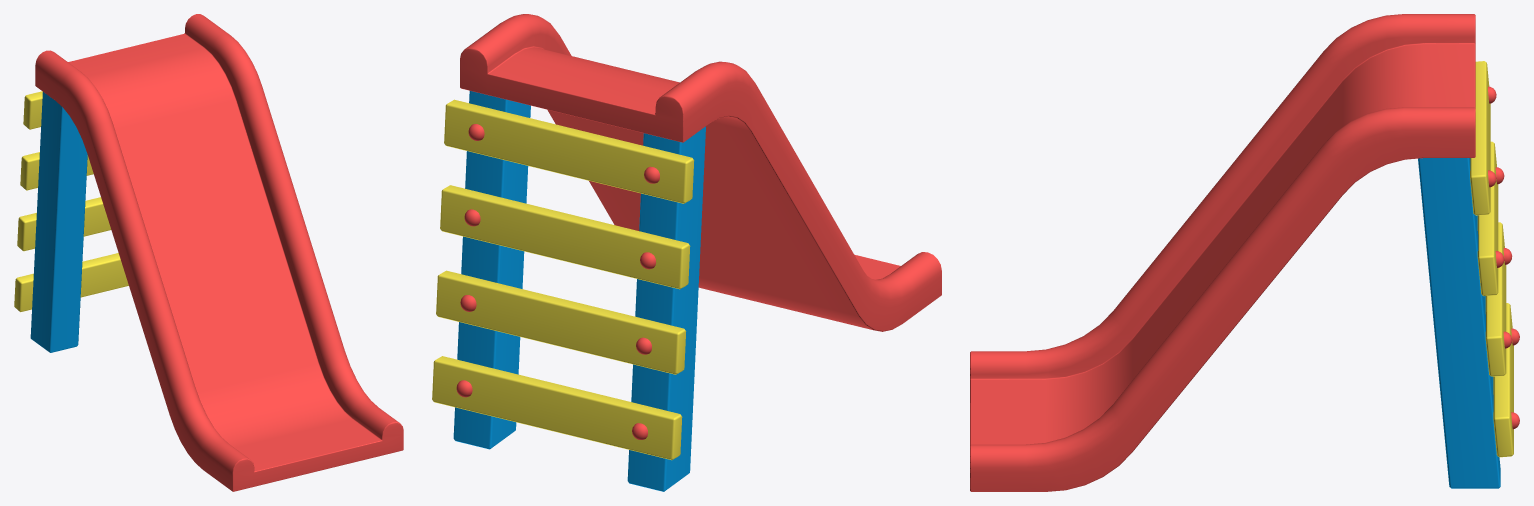
Rendered from City_12_Childrens_Slide_1.glb.
The picture shows the model from 3 angles, left to right: view 1: azimuth 30°, elevation 25°; view 2: azimuth 150°, elevation 25°; view 3: azimuth 270°, elevation 25°; orthographic projection. The views are drawn at different scales.
Visible parts, largest first — view 1: City_12_Childrens_Slide_1; view 2: City_12_Childrens_Slide_1; view 3: City_12_Childrens_Slide_1.
Boxes of the visible parts, <box> form: City_12_Childrens_Slide_1: <box>14,14,403,491</box>; City_12_Childrens_Slide_1: <box>432,14,941,491</box>; City_12_Childrens_Slide_1: <box>970,14,1519,491</box>.
Bounding box in the file's own units: 0.9206 × 1.4 × 1.85.
1 material, 1 textured.
